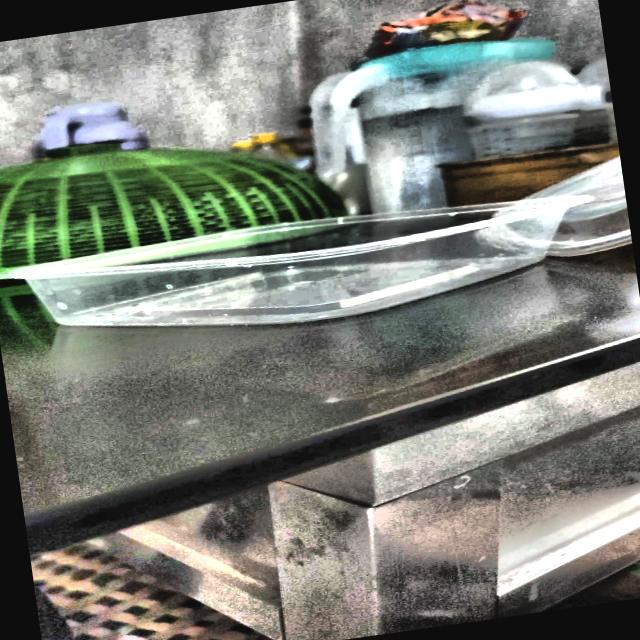plastic container: (1, 196, 588, 327)
